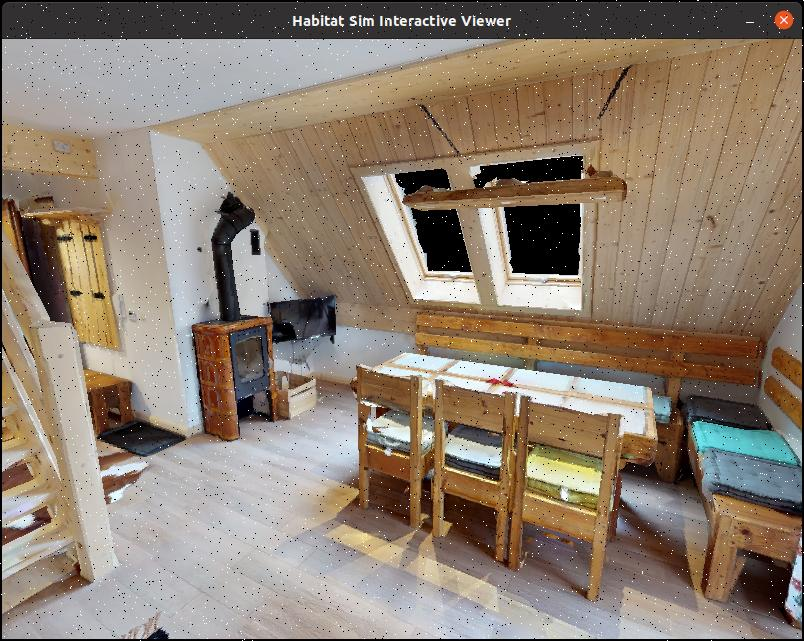chair: (661, 334, 804, 623), (508, 395, 639, 580), (425, 383, 524, 566), (343, 363, 441, 528)
stairs: (0, 154, 140, 618)
table: (349, 339, 671, 473)
